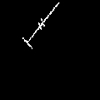treble_crochet: (23, 3, 58, 46)
